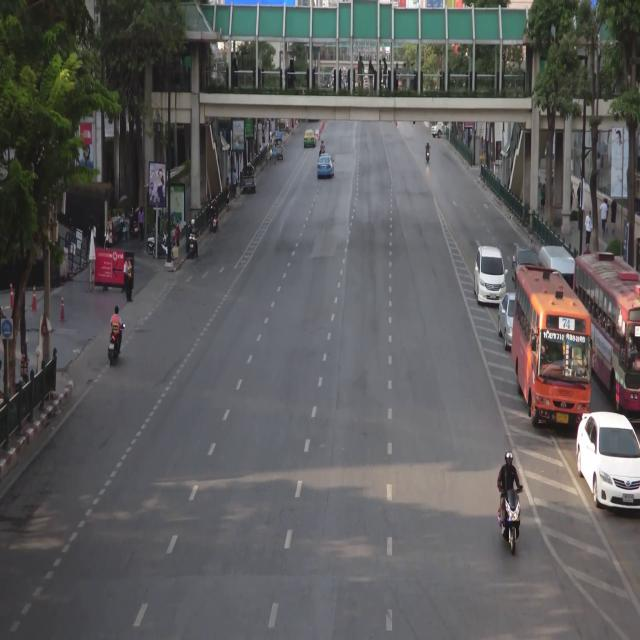bus: (514, 269, 589, 430), (575, 256, 640, 412)
car: (578, 413, 640, 511), (476, 247, 505, 307), (539, 243, 575, 280), (499, 292, 514, 351), (513, 246, 538, 270), (243, 164, 255, 194), (429, 120, 445, 140), (273, 131, 283, 160)
pedestrian: (123, 257, 135, 302), (584, 210, 592, 251), (138, 205, 145, 246), (610, 197, 617, 236), (105, 226, 113, 253), (600, 198, 606, 234), (540, 182, 546, 215), (231, 169, 237, 197), (576, 178, 581, 209), (571, 181, 575, 208), (226, 175, 230, 200), (273, 144, 277, 164), (262, 129, 265, 143), (259, 144, 261, 151)
taxi: (318, 155, 334, 177), (302, 129, 316, 148)
